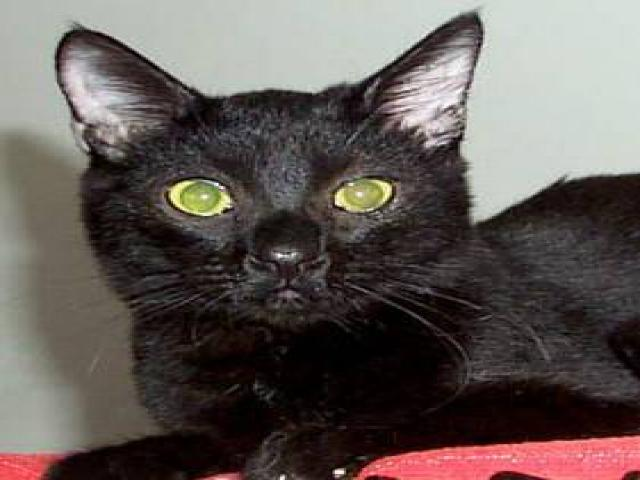cat: (32, 2, 632, 478)
